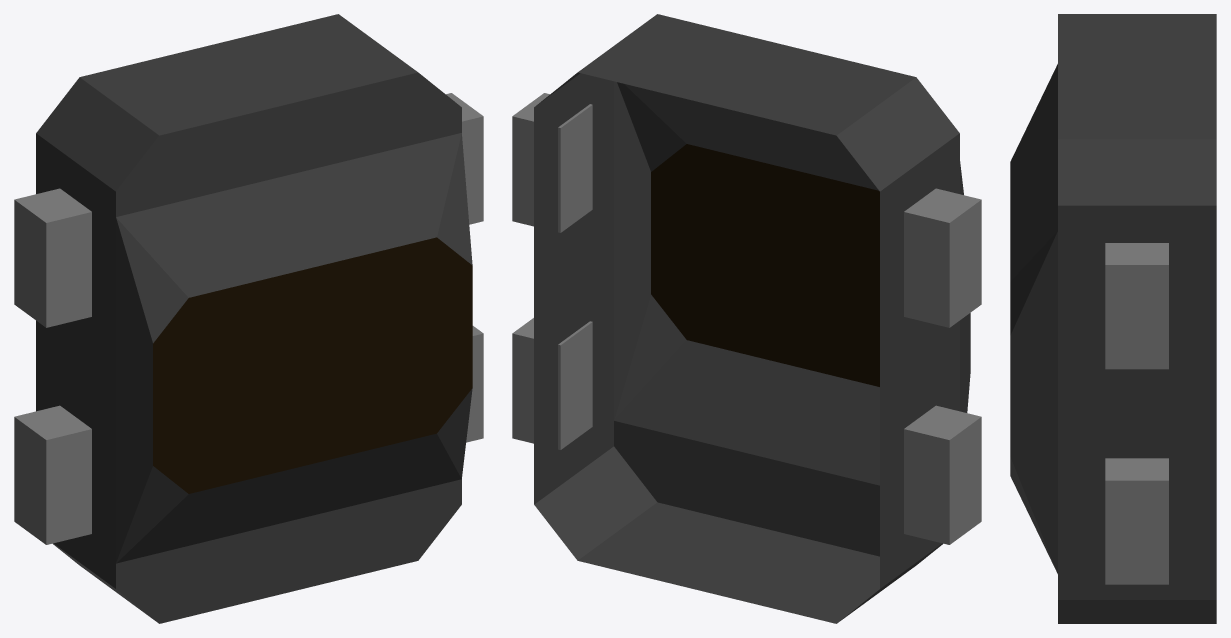
3 renders of one model, left to right at view 1: azimuth 30°, elevation 25°; view 2: azimuth 150°, elevation 25°; view 3: azimuth 270°, elevation 25°, orthographic.
Parts seen in each view (by area): view 1: M_ElectricMeter, M_Connector01, M_Connector04, M_Connector03, M_Connector02; view 2: M_ElectricMeter, M_Connector01, M_Connector04, M_Connector03, M_Connector02; view 3: M_ElectricMeter, M_Connector02, M_Connector03.
Boxes of the visible parts, x1,y1,x2,y2 form: M_ElectricMeter: (36, 14, 472, 623); M_Connector01: (14, 188, 91, 327); M_Connector04: (14, 405, 91, 544); M_Connector03: (446, 93, 483, 224); M_Connector02: (466, 326, 483, 442); M_ElectricMeter: (534, 14, 970, 623); M_Connector01: (904, 188, 981, 327); M_Connector04: (904, 405, 981, 544); M_Connector03: (512, 93, 592, 232); M_Connector02: (512, 318, 592, 449); M_ElectricMeter: (1010, 14, 1216, 623); M_Connector02: (1105, 458, 1168, 584); M_Connector03: (1105, 243, 1168, 369).
Bounding box in the file's own units: 253 × 270 × 104.
